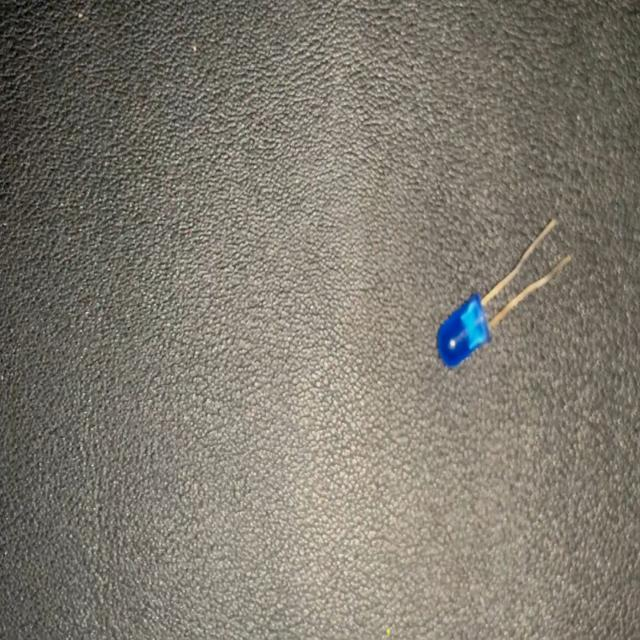LED: (433, 214, 572, 372)
